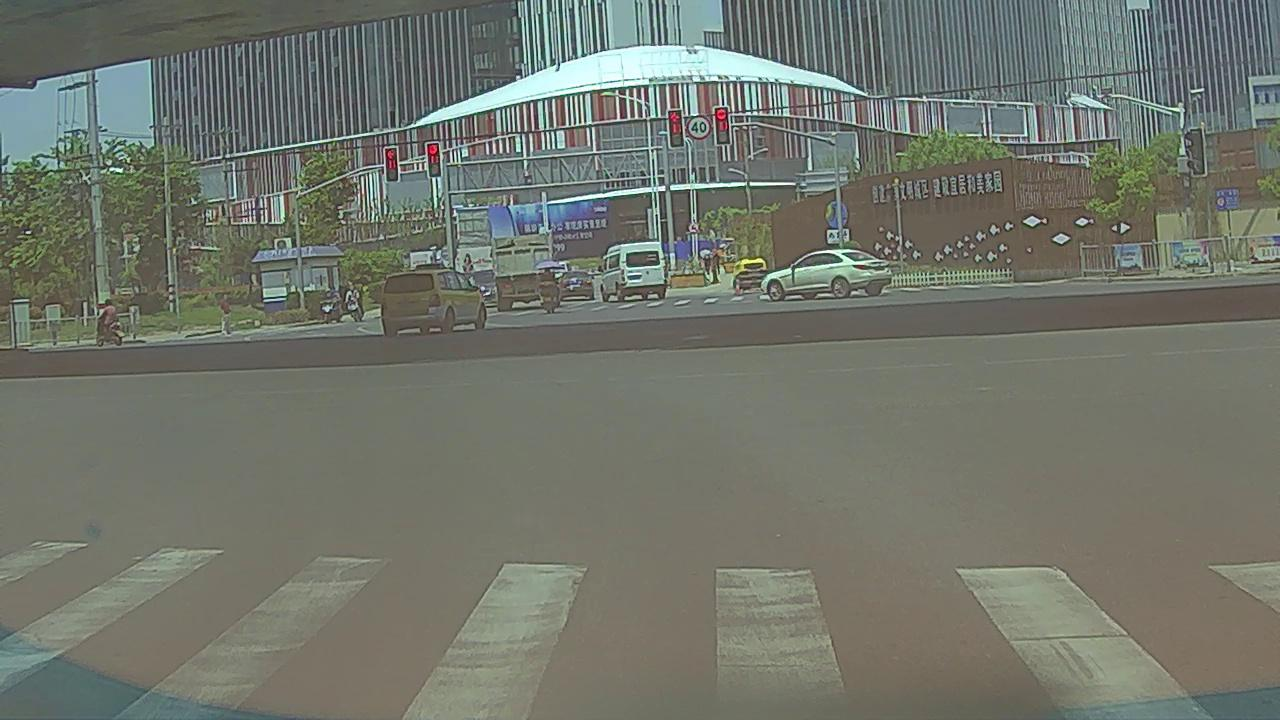traffic_light: (714, 106, 730, 145), (668, 109, 684, 147), (385, 149, 399, 183), (427, 143, 441, 177)
